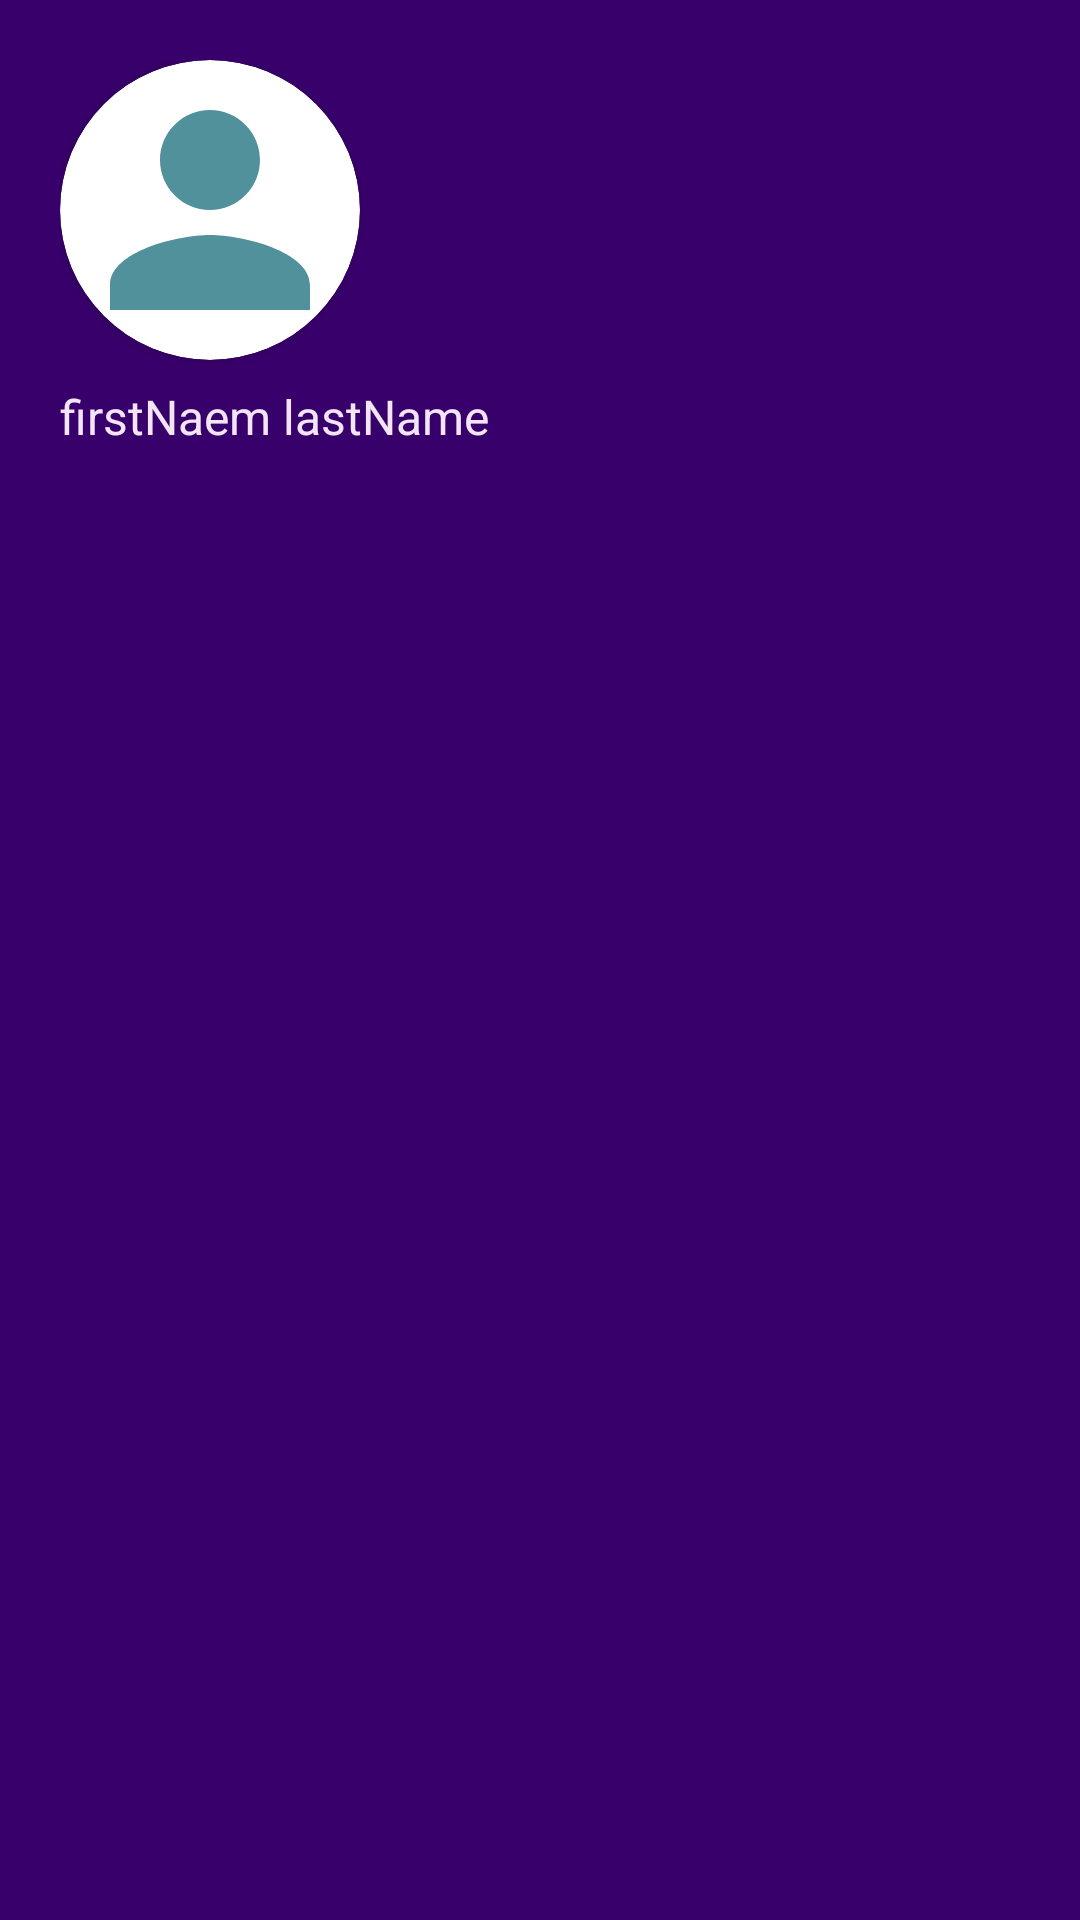

Where to tap for icons on this 1080×1920 app screen, as [x,y]:
user: [210,210]
